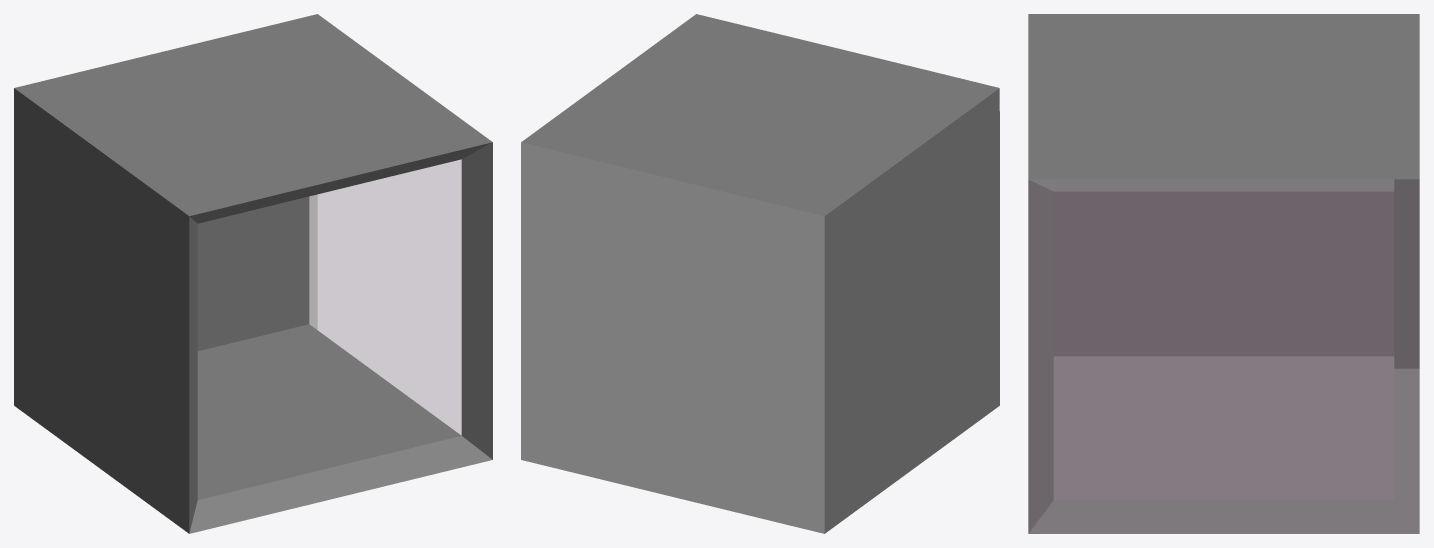
File: smallRoom_mirror_window.obj
The picture shows the model from 3 angles, left to right: view 1: azimuth 30°, elevation 25°; view 2: azimuth 150°, elevation 25°; view 3: azimuth 270°, elevation 25°; orthographic projection. The views are drawn at different scales.
Parts seen in each view (by area): view 1: smallRoom_mirror_window; view 2: smallRoom_mirror_window; view 3: smallRoom_mirror_window.
Part boxes in pixels (bbox=[...]): smallRoom_mirror_window: bbox=[14, 14, 492, 533]; smallRoom_mirror_window: bbox=[521, 14, 999, 533]; smallRoom_mirror_window: bbox=[1028, 14, 1419, 533].
Size of the model in its own units: 1.15 by 1.15 by 1.15.
